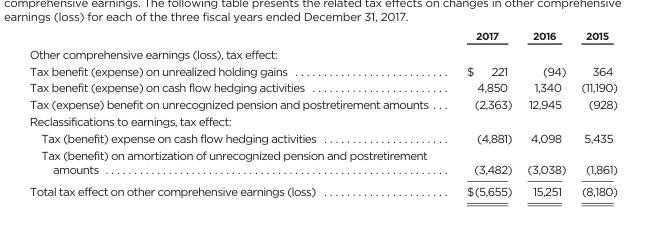table: (28, 28, 617, 197)
table column: (28, 28, 447, 197), (447, 28, 519, 197), (519, 28, 572, 197), (572, 28, 617, 197)
table column header: (28, 28, 617, 43)
table projected row header: (28, 43, 617, 62), (28, 112, 617, 129)
table row: (28, 146, 617, 179), (28, 43, 617, 62), (28, 179, 617, 197), (28, 78, 617, 95), (28, 95, 617, 112), (28, 112, 617, 129), (28, 129, 617, 146), (28, 62, 617, 78), (28, 28, 617, 43)
